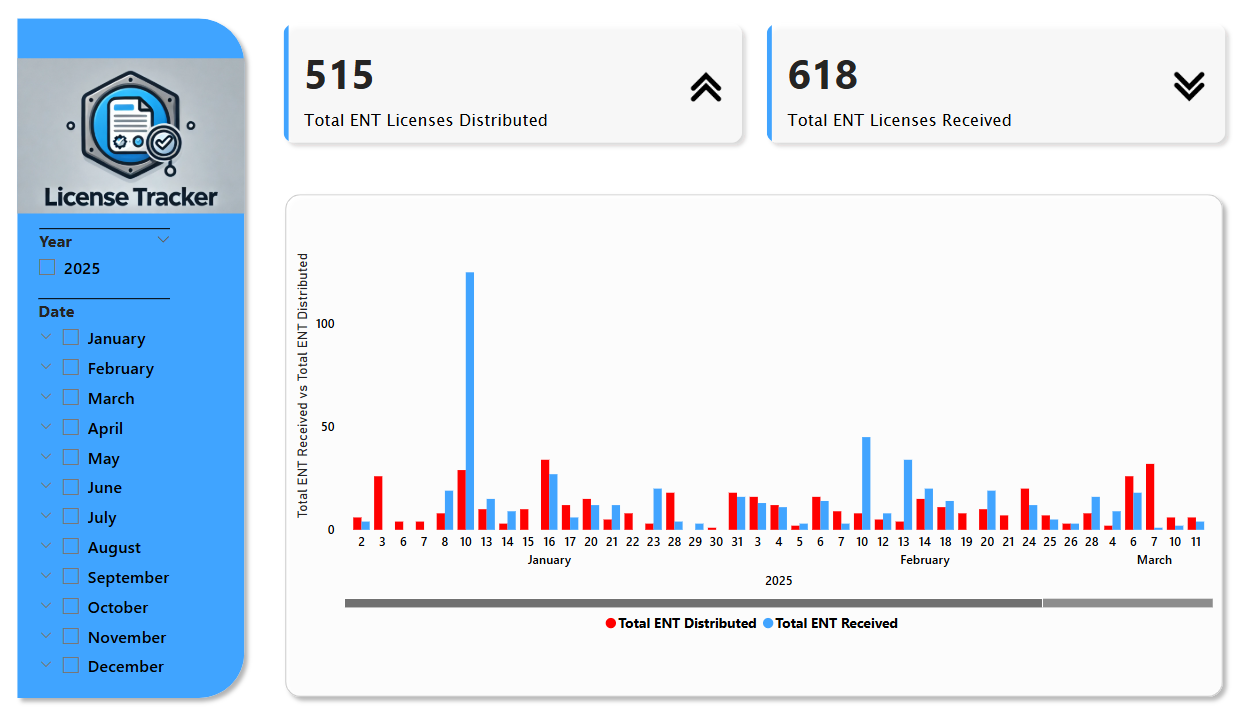

Layout of this report page (visuals, bound fields, positions):
{"tool":"powerbi","page":{"name":"(ENT) License Tracker ","canvas":[1280,720],"ordinal":1},"visuals":[{"type":"shape","box":[304.7,192.3,930,506.9],"z":0},{"type":"shape","box":[43.4,21.7,238.9,679.2],"z":1000},{"type":"clusteredColumnChart","fields":{"Y":["licenses.Total ENT Distributed","licenses.Total ENT Received"],"Category":["licenses.date_received.Variation.Date Hierarchy.Year","licenses.date_received.Variation.Date Hierarchy.Month","licenses.date_received.Variation.Date Hierarchy.Day"]},"box":[318.5,233.5,902.5,403.9],"z":2000},{"type":"slicer","fields":{"Values":["licenses.date_received.Variation.Date Hierarchy.Year"]},"box":[61.1,229.9,152.9,101.5],"z":3000},{"type":"slicer","fields":{"Values":["licenses.date_received.Variation.Date Hierarchy.Month","licenses.date_received.Variation.Date Hierarchy.Day"]},"box":[59.9,297.1,154.1,412.1],"z":4000},{"type":"cardVisual","fields":{"Data":["licenses.Total ENT Distributed","licenses.Total ENT Received"]},"box":[295.2,18.9,950.1,150.1],"z":6000},{"type":"image","box":[47.7,59.9,231.1,170],"z":7000}]}

Visuals, with their boxes in screenshot pixels (x1, y1, x2, y2), scaled from the page's 1280x720 canvas onto the 1239x715 screenshot:
shape: box=[295, 191, 1195, 694]
shape: box=[42, 22, 273, 696]
clusteredColumnChart - licenses.Total ENT Distributed x licenses.Total ENT Received: box=[308, 232, 1182, 633]
slicer - licenses.date_received.Variation.Date Hierarchy.Year: box=[59, 228, 207, 329]
slicer - licenses.date_received.Variation.Date Hierarchy.Month x licenses.date_received.Variation.Date Hierarchy.Day: box=[58, 295, 207, 704]
cardVisual - licenses.Total ENT Distributed x licenses.Total ENT Received: box=[286, 19, 1205, 168]
image: box=[46, 59, 270, 228]
